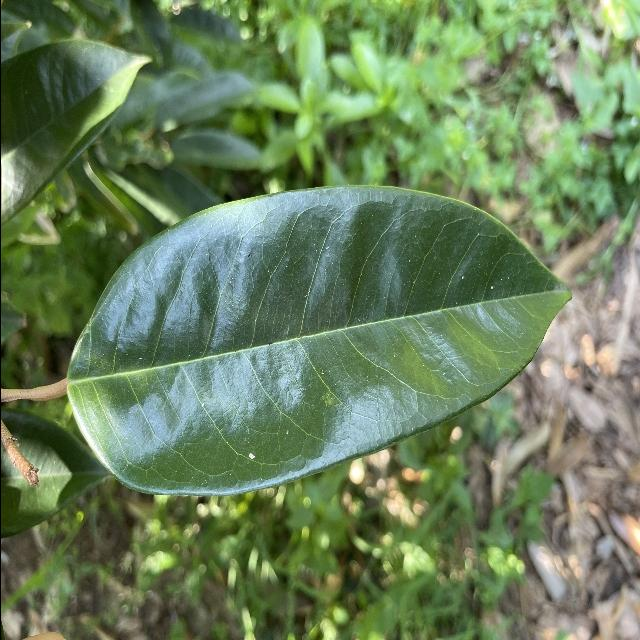No Disease: (57, 171, 580, 505)
